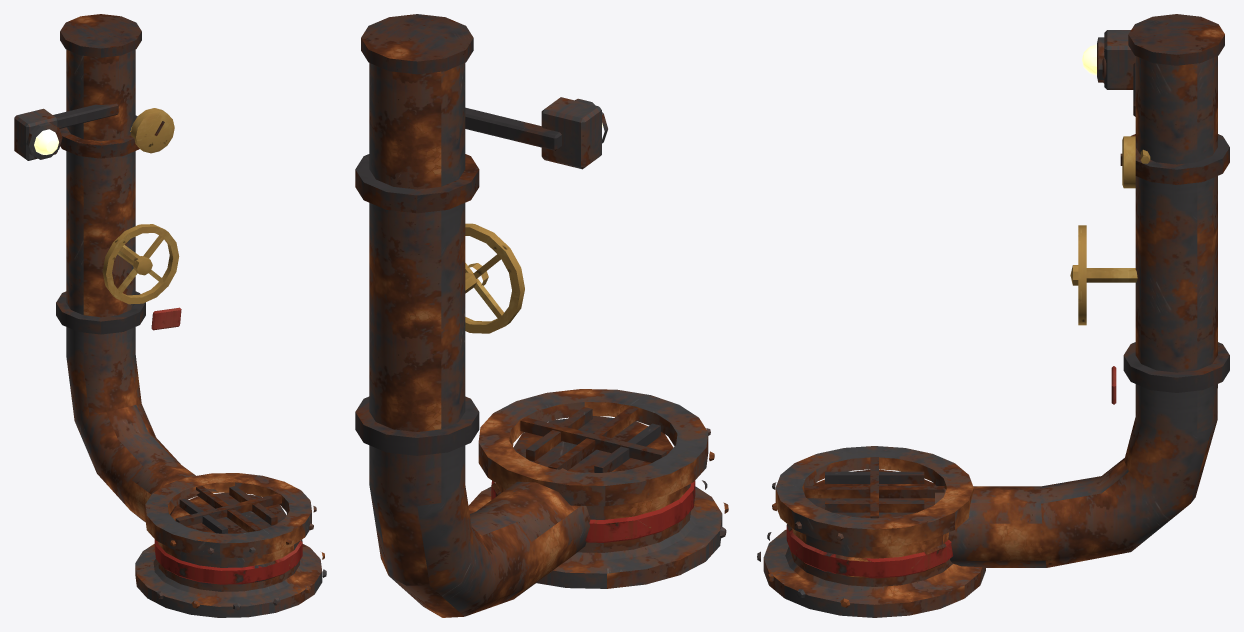
Rendered from Steam_Vent.glb.
3 views of the same model, side by side, from view 1: azimuth 30°, elevation 25°; view 2: azimuth 150°, elevation 25°; view 3: azimuth 270°, elevation 25° (orthographic). The views are drawn at different scales.
Parts seen in each view (by area): view 1: Steam_Vent; view 2: Steam_Vent; view 3: Steam_Vent.
Boxes of the visible parts, x1=… form: Steam_Vent: x1=14, y1=14, x2=326, y2=617; Steam_Vent: x1=355, y1=14, x2=728, y2=617; Steam_Vent: x1=757, y1=14, x2=1229, y2=617.
Size of the model in its own units: 1.07 by 2.46 by 1.96.
5 materials, 4 textured.
